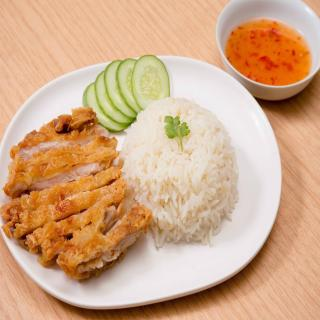carbs: (126, 102, 237, 203), (152, 204, 235, 244)
fried_chicken_rice: (0, 56, 281, 301)
meat: (6, 109, 123, 281), (124, 204, 151, 243)
veg: (80, 64, 134, 130), (134, 54, 171, 102), (163, 116, 192, 152)
